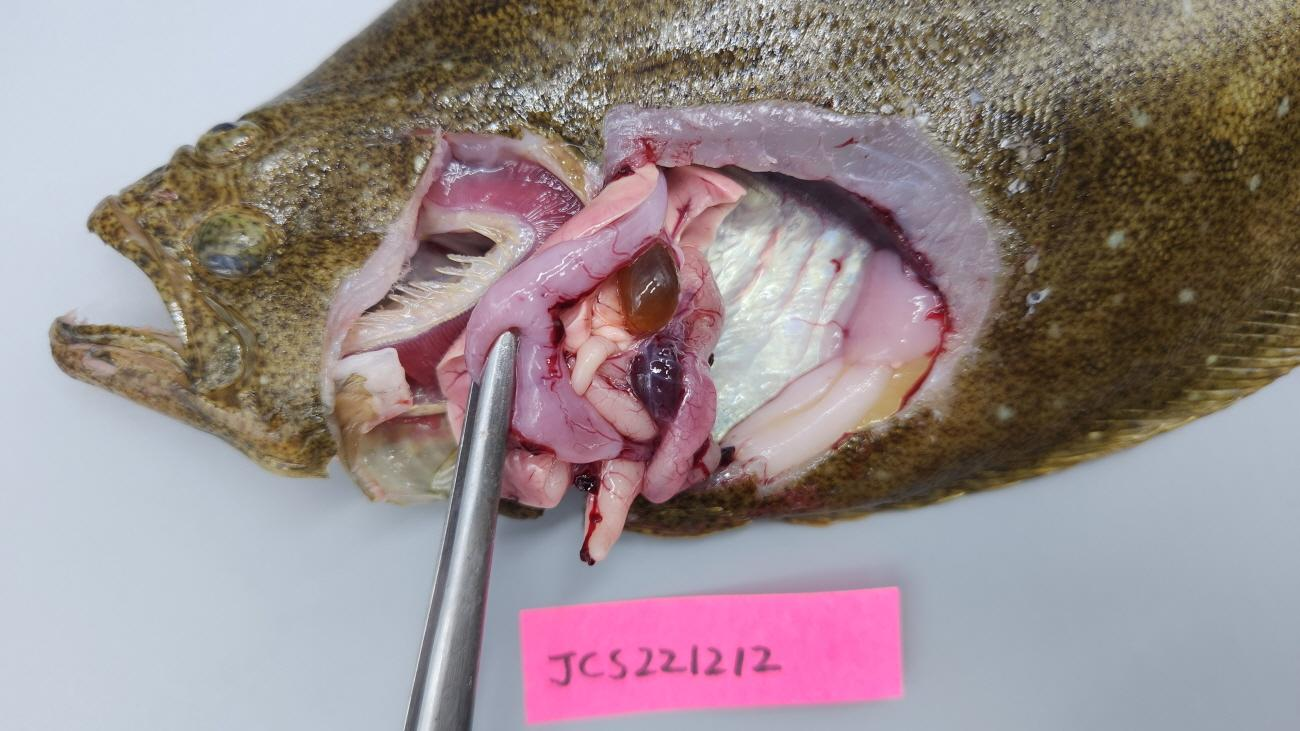POINN: (584, 245, 723, 502)
POSPN: (631, 338, 684, 420)
